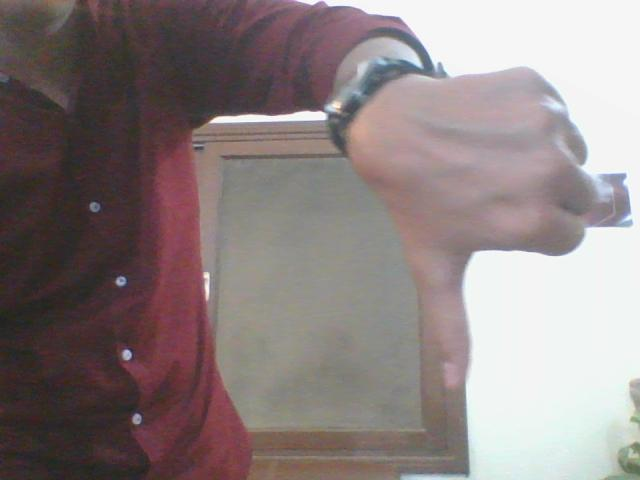thumbs-down: (412, 66, 599, 391)
